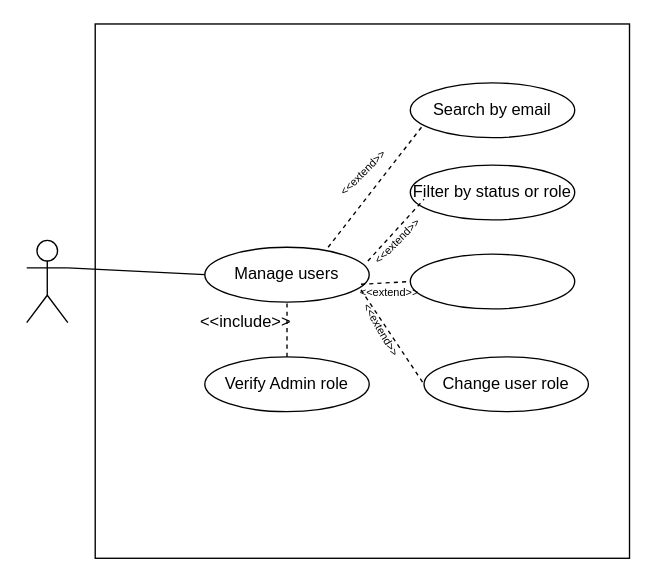
This 653x582 diagram has some shape labels left out. Each missing label, with the centre of its shape:
"Admin" goes at (x=46, y=281).
"Suspend or reactivate" goes at (x=492, y=281).
